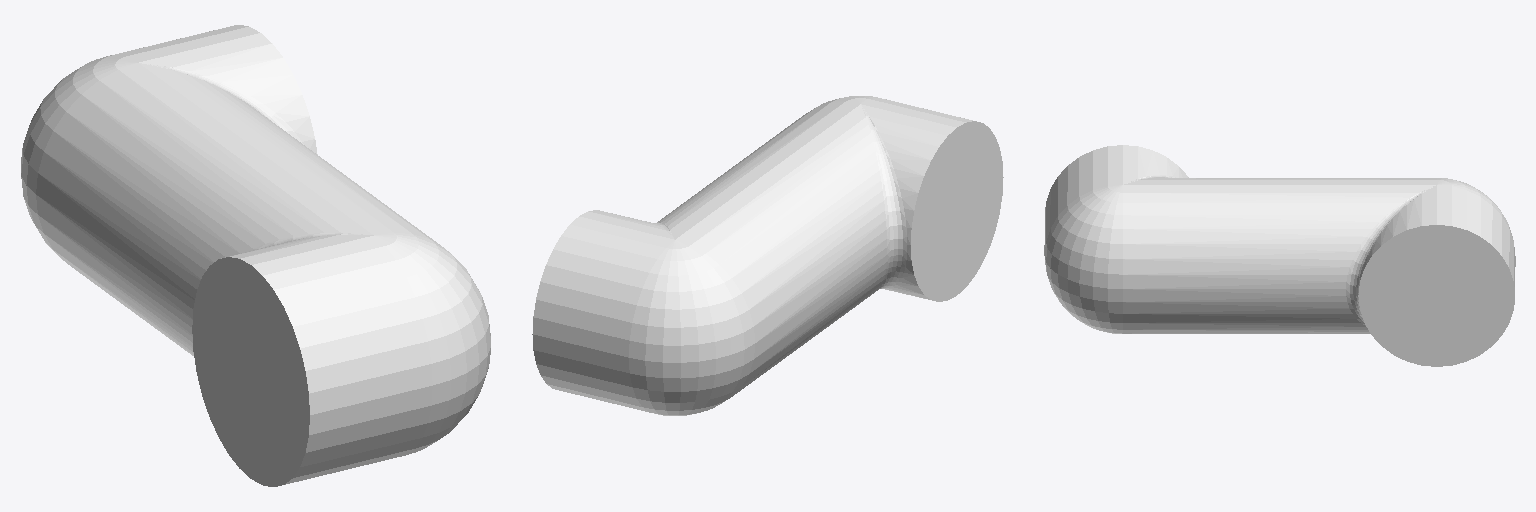
The robot description file, URDF, robot "single_link_arm":
<?xml version="1.0"?>

<robot name="single_link_arm">

<link name="base_link">
</link>

<link name="base">
        <visual>
            <origin xyz="0.0 0.0 0" rpy="0 0 0" />
            <geometry>
                <mesh filename="package://dlm_sim/models/Base_2.stl"/>
            </geometry>
            <material name="White">
                <color rgba="0.97 0.97 0.97 1.0"/>
            </material>
        </visual>

        <collision>
            <origin xyz="0 0 0.21" rpy="0 0 0"/>
            <geometry>
                <cylinder length="0.42" radius=".075" />
            </geometry>
        </collision>

        <inertial>
            <origin xyz="0 0 0.21" rpy="0 0 0"/>
            <mass value="2.0"/>
            <inertia ixx="0.032" ixy="0.0" ixz="0.0" iyy="0.0324" iyz="0.0" izz="0.0056"/>
        </inertial>

</link>

<link name="link1">
        <visual>
            <origin xyz="0.06 0.13 0.0" rpy="1.57 -1.57 0.0" />
            <geometry>
                <mesh filename="package://dlm_sim/models/Arm_2.stl"/>
            </geometry>
            <material name="White">
                <color rgba="0.97 0.97 0.97 1.0"/>
            </material>
        </visual>

        <collision>
            <origin xyz="0.06 0.13 0.0" rpy="1.57 0 0"/>
            <geometry>
                <cylinder length="0.36" radius=".05" />
            </geometry>
        </collision>

        <inertial>
            <origin xyz="0.06 0.13 0.0" rpy="1.57 0 0"/>
            <mass value="0.5"/>
            <inertia ixx="0.009" ixy="0.0" ixz="0.0" iyy="0.00" iyz="0.0" izz="0.0099"/>
        </inertial>
</link>

<link name="link2">
        <visual>
            <origin xyz="0.06 0.1 0.0" rpy="1.57 -1.57 0.0" />
            <geometry>
                <mesh filename="package://dlm_sim/models/Arm2_2.stl"/>
            </geometry>
            <material name="White">
                <color rgba="0.97 0.97 0.97 1.0"/>
            </material>
        </visual>

        <collision>
            <origin xyz="0.06 0.1 0.0" rpy="1.57 0 0"/>
            <geometry>
                <cylinder length="0.3" radius=".05" />
            </geometry>
        </collision>

        <inertial>
            <origin xyz="0.06 0.13 0.0" rpy="1.57 0 0"/>
            <mass value="0.5"/>
            <inertia ixx="0.009" ixy="0.0" ixz="0.0" iyy="0.00" iyz="0.0" izz="0.0099"/>
        </inertial>
</link>



<joint name="joint1" type="fixed">
    <origin xyz="0 0 0" rpy="0 0 0" />
    <parent link="base_link" />
    <child link="base" />
</joint>

<joint name="joint2" type="continuous">
    <origin xyz="0.085 0 0.37" rpy="0 0.0 0.0" />
    <parent link="base" />
    <child link="link1" />
    <axis xyz="1 0 0" />
</joint>

<joint name="joint3" type="continuous">
    <origin xyz="0.12 0.260 0.0 " rpy="0 0.0 0.0" />
    <parent link="link1" />
    <child link="link2" />
    <axis xyz="1 0 0" />
</joint>

</robot>

--- What the picture shows (computed from the rendered views, not written in the file) ---
The picture shows the robot from 3 angles, left to right: view 1: azimuth 30°, elevation 25°; view 2: azimuth 150°, elevation 25°; view 3: azimuth 270°, elevation 25°; orthographic projection.
Robot: single_link_arm — 4 links, 3 joints (2 continuous, 1 fixed); root link base_link; default pose: all joints at 0.
Visible links, largest first — view 1: link2; view 2: link2; view 3: link2.
Boxes of the visible links, x1,y1,x2,y2 form: link2: (21,25,490,486); link2: (532,96,1003,415); link2: (1044,145,1515,366).
Bounding box of the posed robot: 0.1203 × 0.3 × 0.1001 m (x, y, z).
1 mesh visuals loaded from 3 distinct referenced files (1 binary STL); not drawn: 2 (reference not matched to a file when rendering).